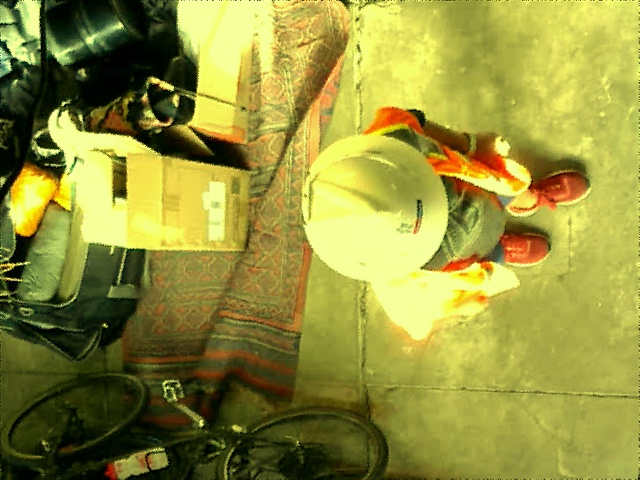one: (301, 170, 310, 223)
